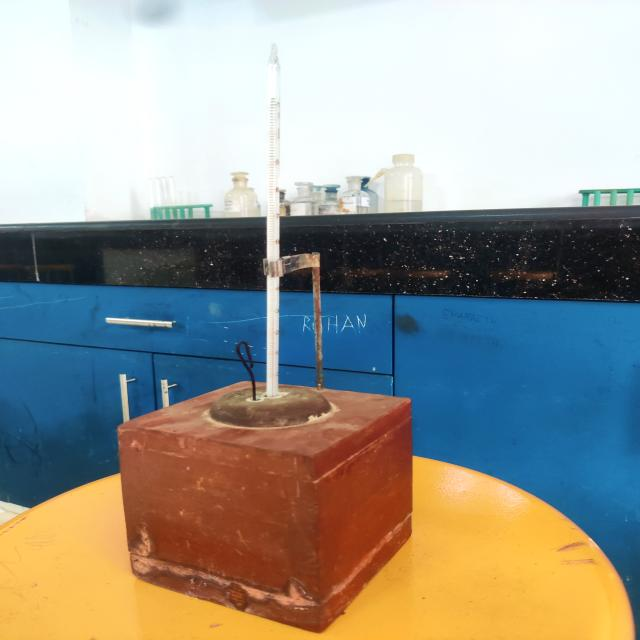Calorimeter: (83, 14, 478, 640)
